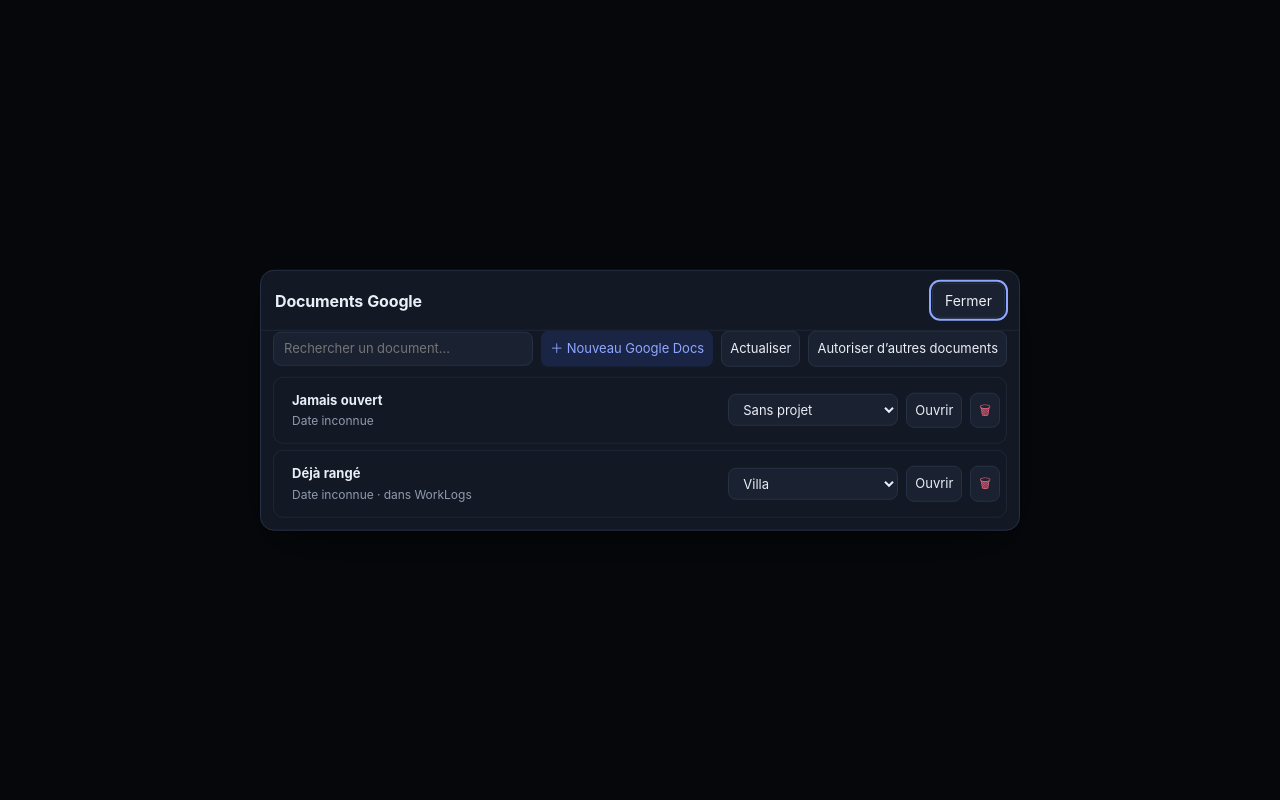
Scenario: range un document dans un projet, en créant d’abord sa copie locale si besoin
Expected: the dropdown named "Projet de Déjà rangé" shows "Villa", [728,468,898,500]
Select "Villa" in the dropdown named "Projet de Jamais ouvert" at (813, 410), box [728,394,898,426]
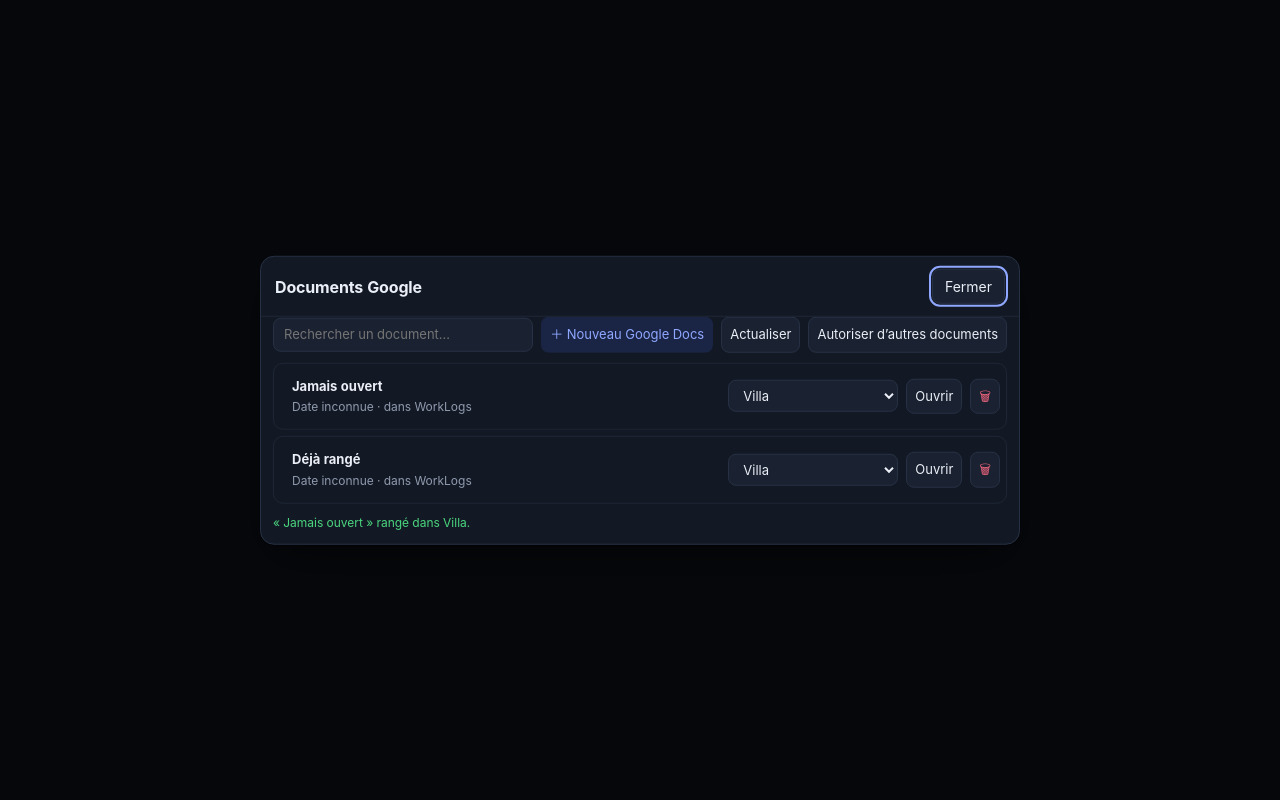
Now the text "« Jamais ouvert » rangé dans Villa." is shown, box [273,514,470,529]
// Déjà local : pas de réouverture.
Select "Sans projet" in the dropdown named "Projet de Déjà rangé" at (813, 470), box [728,454,898,486]
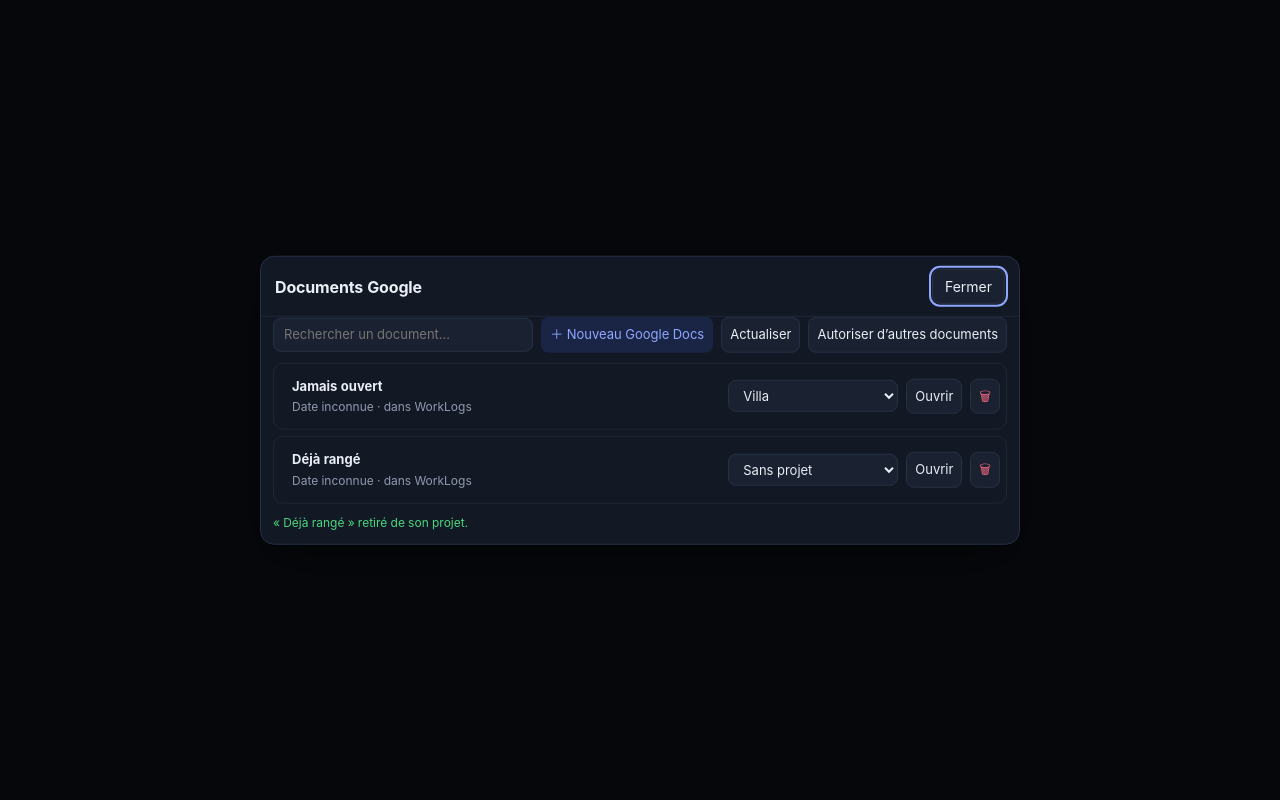
Now the text "« Déjà rangé » retiré de son projet." is shown, box [273,514,468,529]
